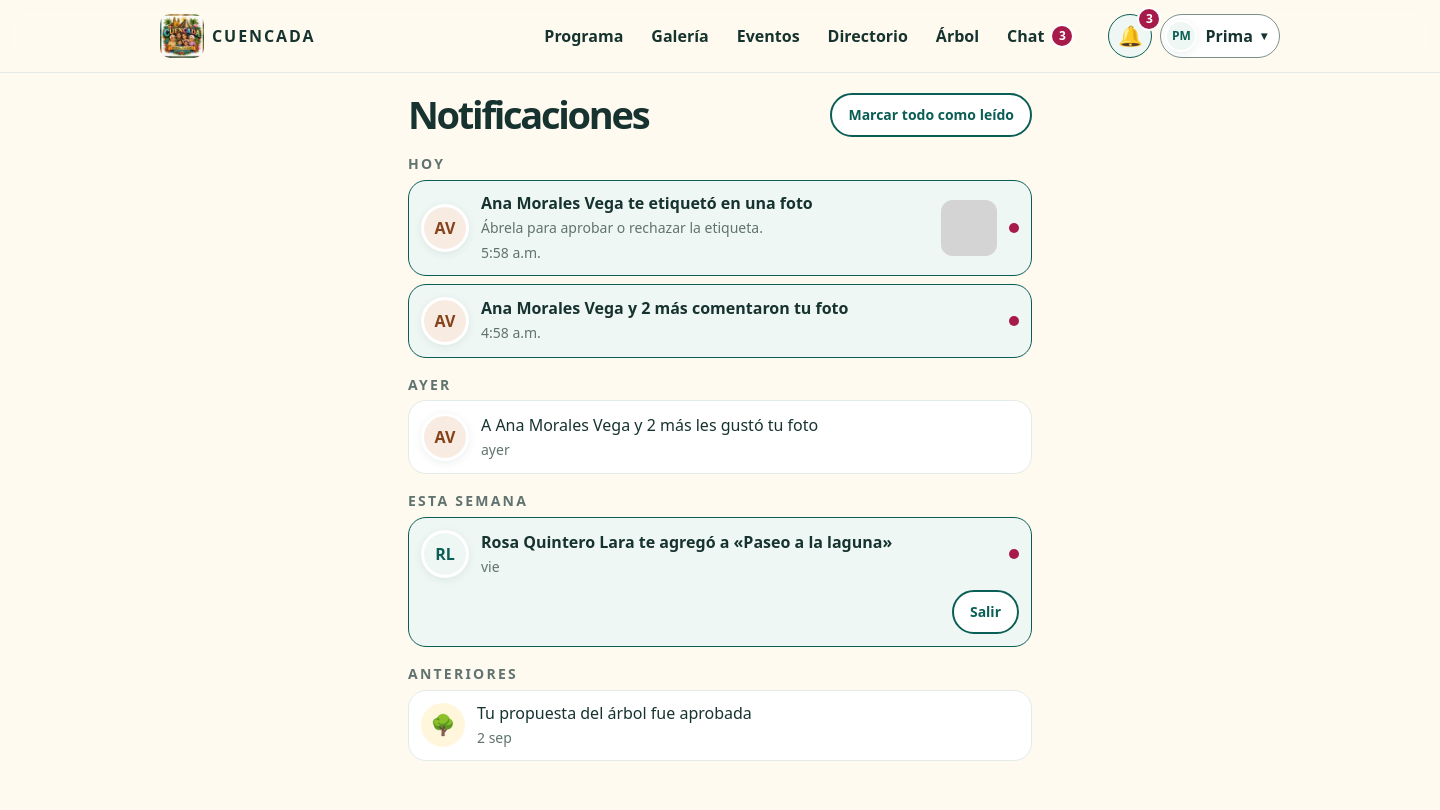
Test: NotificationsPage › keeps the one-tap Salir of an event notice
expect the text "Ana Morales Vega te etiquetó en una foto" is shown: met, box [480,191,813,214]
Click the button with aria-label "Salir de Paseo a la laguna" at (985, 612), box [952,590,1019,634]
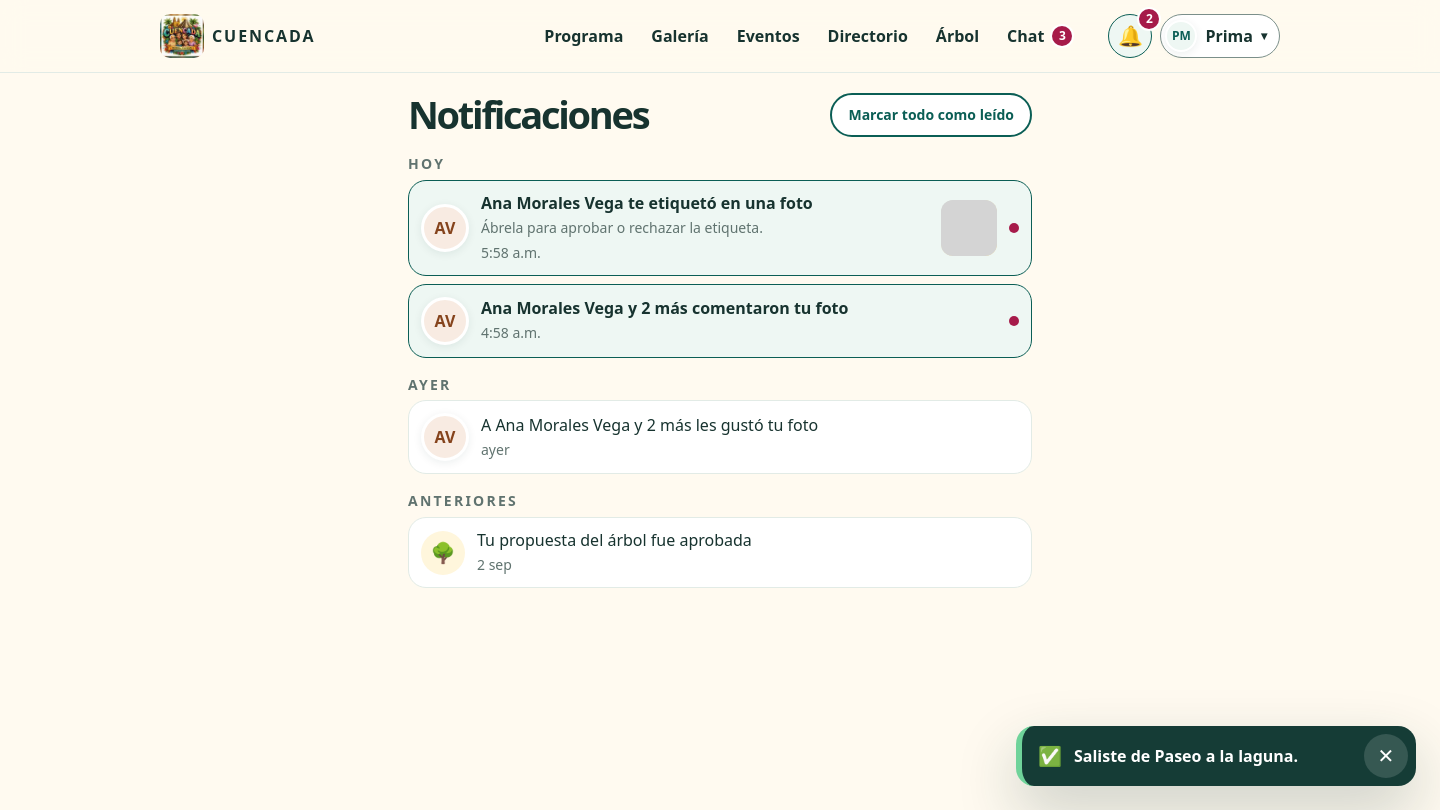
expect the text "Saliste de Paseo a la laguna." is shown: met, box [1074,745,1298,767]
expect the link "te agregó a" is gone: met
